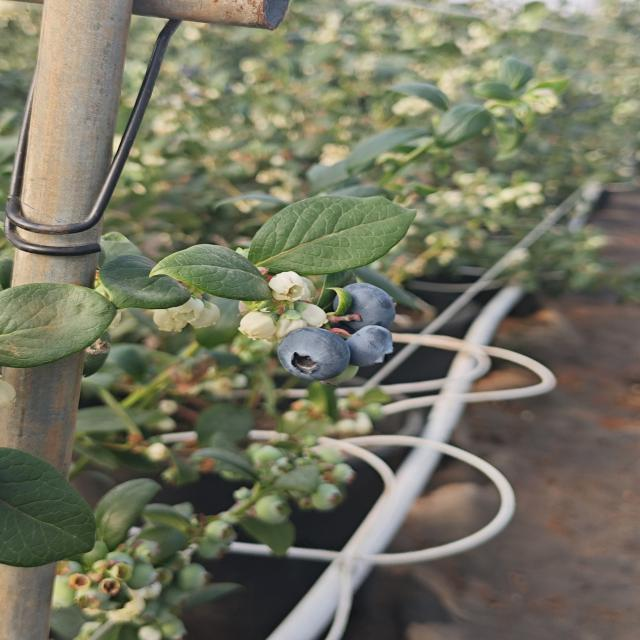ripe: (274, 325, 352, 384), (326, 281, 398, 336), (345, 326, 392, 365)
